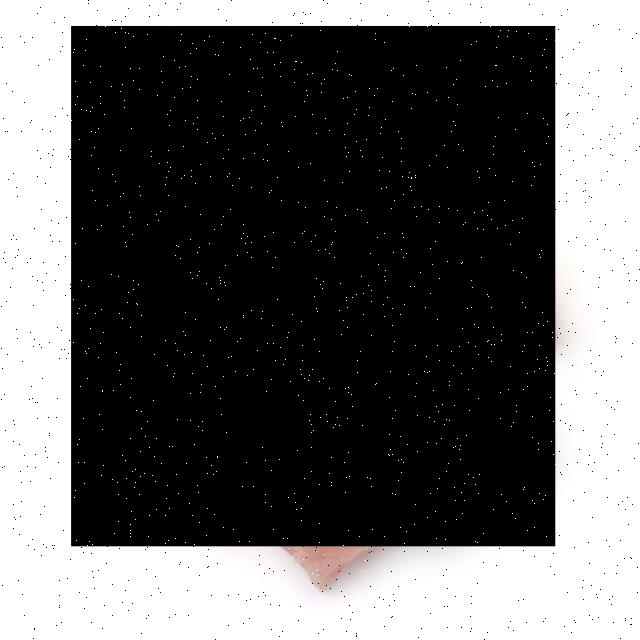Chicken: (71, 27, 556, 547)
